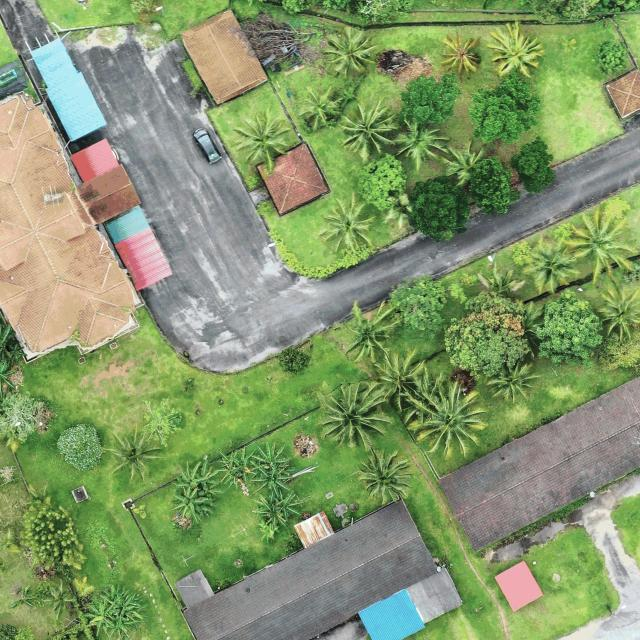Tree: (443, 290, 531, 378), (405, 375, 488, 462), (564, 207, 640, 287), (532, 288, 604, 370), (17, 495, 88, 577), (318, 380, 392, 449), (471, 72, 542, 143), (328, 300, 404, 364), (360, 346, 429, 412), (230, 107, 294, 175), (336, 95, 399, 162), (410, 174, 470, 243), (391, 118, 452, 182), (397, 72, 463, 128), (388, 273, 449, 332), (519, 238, 582, 294), (486, 21, 545, 79), (104, 424, 163, 482), (353, 448, 414, 504), (318, 194, 376, 250), (321, 26, 380, 78), (470, 156, 520, 217), (357, 152, 407, 211), (440, 137, 492, 190), (510, 136, 556, 195), (0, 392, 45, 451), (485, 357, 539, 404), (595, 284, 640, 340), (56, 421, 104, 471), (170, 459, 226, 496), (298, 86, 344, 130), (168, 487, 214, 524), (483, 263, 526, 301), (439, 36, 478, 75), (248, 460, 297, 490), (251, 492, 287, 531), (218, 448, 254, 487), (83, 597, 116, 637), (250, 442, 290, 472), (596, 38, 628, 75), (106, 606, 136, 640), (278, 344, 310, 374), (109, 590, 142, 618), (274, 491, 303, 520), (92, 585, 122, 610), (0, 361, 18, 400), (8, 343, 26, 363)
